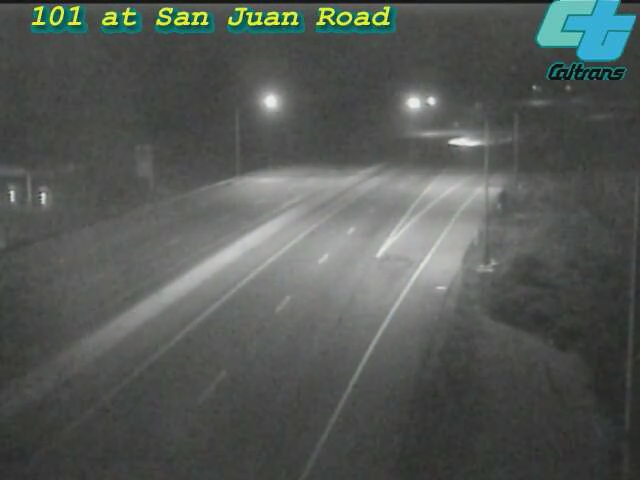vehicle: (440, 117, 490, 167)
